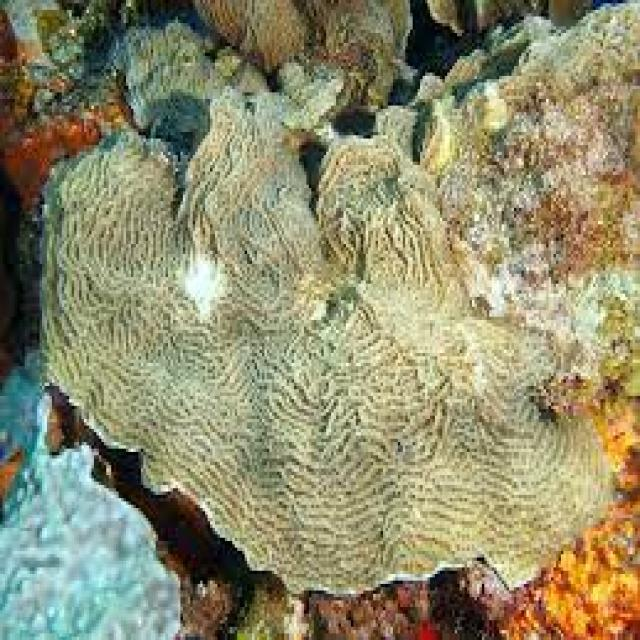Coral: (31, 18, 617, 600), (0, 340, 180, 640), (193, 0, 420, 115)
